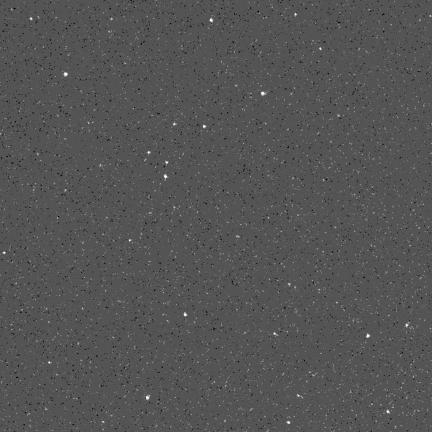blob: (146, 395, 151, 401), (210, 18, 214, 23), (164, 174, 167, 180), (366, 334, 370, 338), (64, 72, 68, 76), (148, 151, 152, 155), (261, 92, 266, 95), (30, 17, 33, 21), (184, 312, 187, 316), (203, 125, 206, 128), (173, 123, 177, 125), (295, 13, 297, 17)
